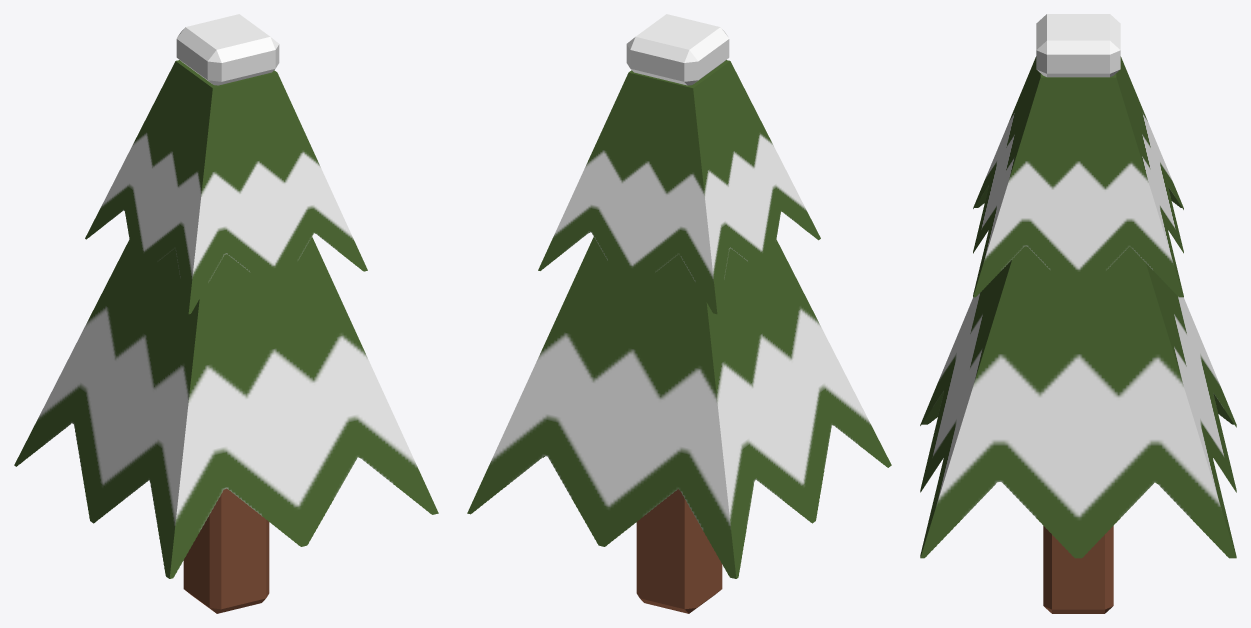
The model's file is Tree 1.fbx.
3 views of the same model, side by side, from view 1: azimuth 30°, elevation 25°; view 2: azimuth 150°, elevation 25°; view 3: azimuth 270°, elevation 25° (orthographic).
Parts seen in each view (by area): view 1: Spruce_Crown_2, Spruce_Crown_1, Trunk, Snow_1; view 2: Spruce_Crown_2, Spruce_Crown_1, Trunk, Snow_1; view 3: Spruce_Crown_2, Spruce_Crown_1, Snow_1, Trunk.
Boxes of the visible parts, box(x1,y1,x2,y2) form: Spruce_Crown_2: box(14, 236, 438, 578); Spruce_Crown_1: box(85, 60, 367, 314); Trunk: box(183, 488, 269, 613); Snow_1: box(176, 14, 279, 85); Spruce_Crown_2: box(467, 237, 891, 578); Spruce_Crown_1: box(538, 60, 820, 314); Trunk: box(636, 489, 722, 613); Snow_1: box(626, 14, 729, 85); Spruce_Crown_2: box(920, 246, 1236, 558); Spruce_Crown_1: box(973, 56, 1183, 297); Snow_1: box(1036, 14, 1120, 77); Trunk: box(1043, 526, 1113, 613).
Bounding box in the file's own units: 0.9 × 1.81 × 0.9.
Materials: 1 (1 with a texture image).
